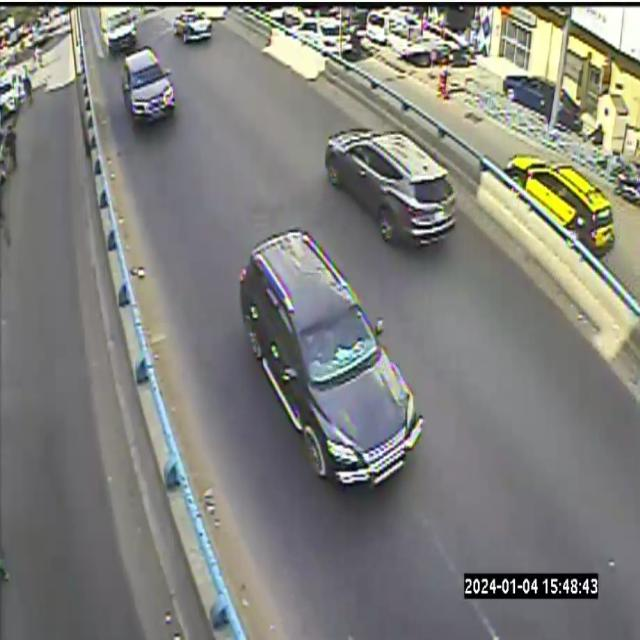car: (239, 228, 424, 485), (325, 128, 455, 244), (503, 156, 614, 254), (123, 47, 175, 122), (100, 5, 136, 54), (174, 8, 212, 43)
